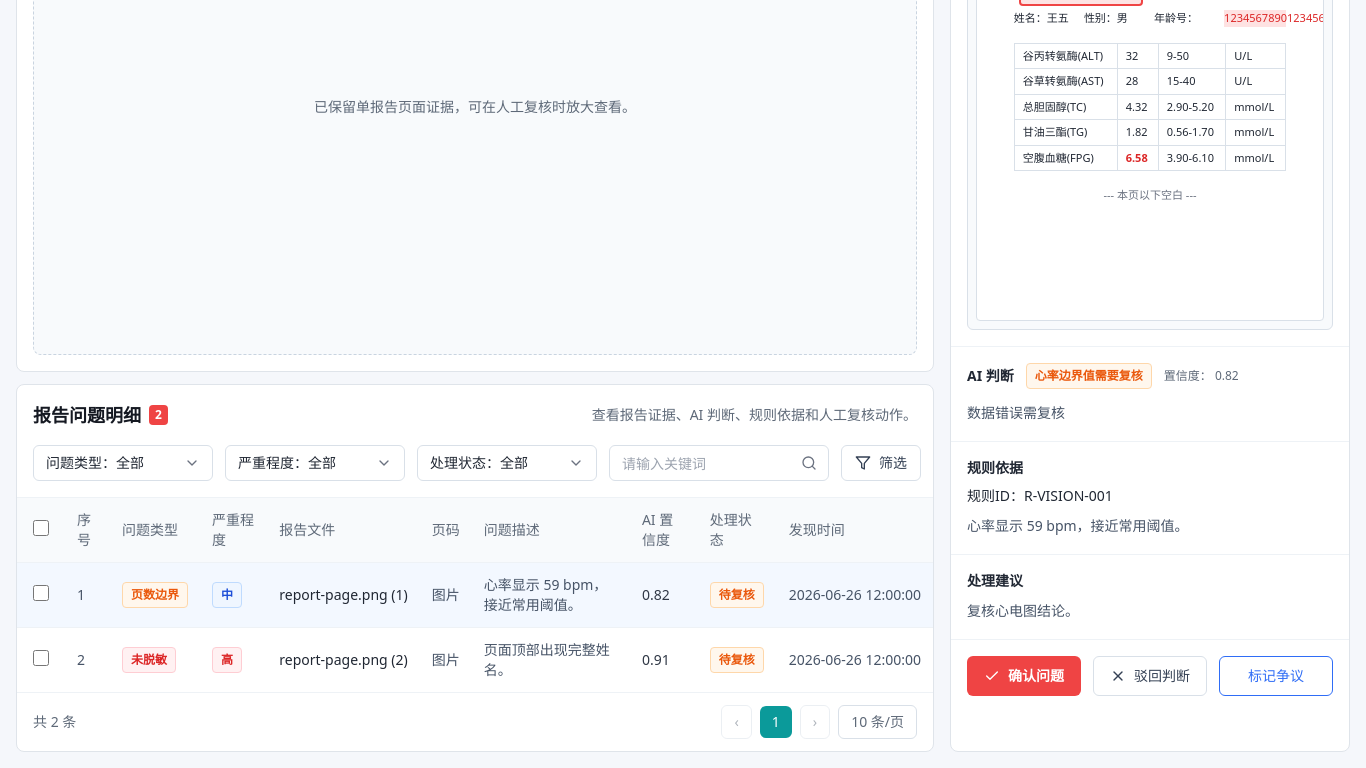
it: quality workspace interactions › draws page-level evidence boxes for data errors and privacy leaks
(page scrolled)
Click the button "report-page.png (2)".
click(344, 660)  # box left=279, top=650, right=408, bottom=670
(page scrolled)
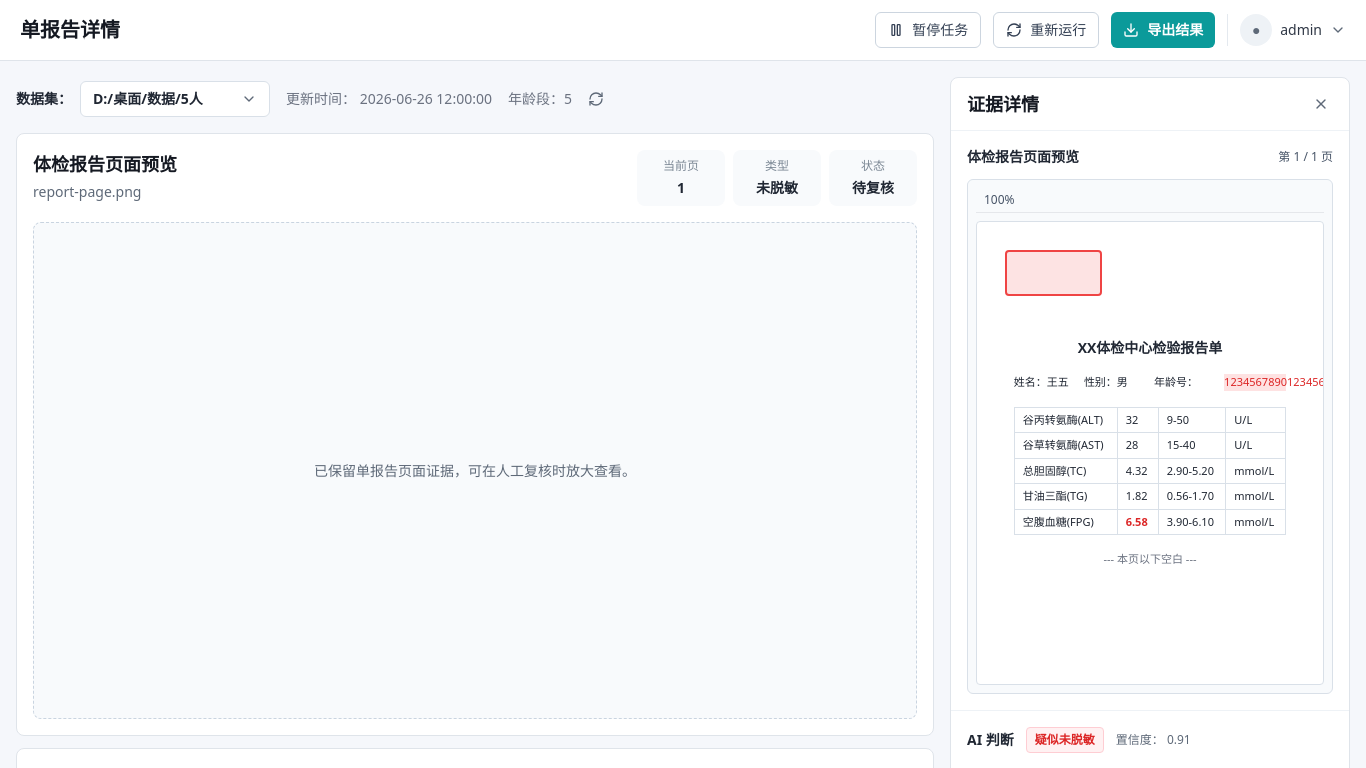
Now the element named "未脱敏标注：疑似未脱敏" is shown, box left=1005, top=250, right=1102, bottom=296
